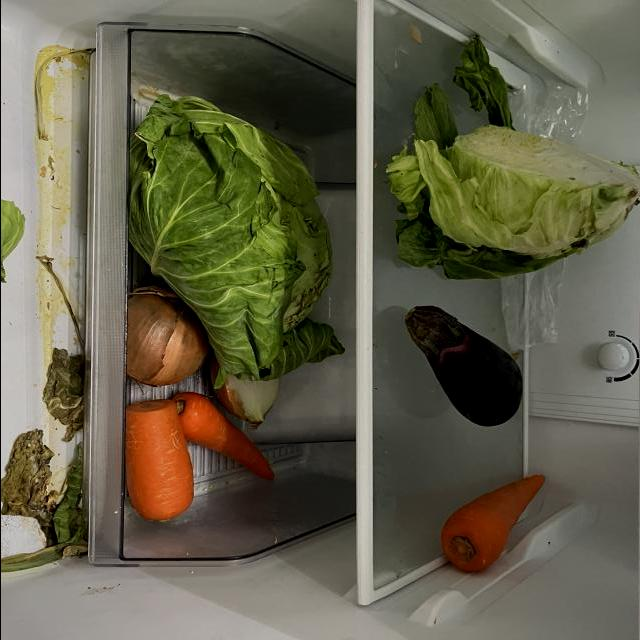cabbage: (121, 94, 345, 381), (382, 36, 640, 285)
carrot: (436, 471, 548, 579), (117, 397, 197, 529), (170, 392, 279, 487)
eggplant: (405, 303, 525, 432)
onion: (122, 286, 206, 392), (203, 344, 285, 433)
